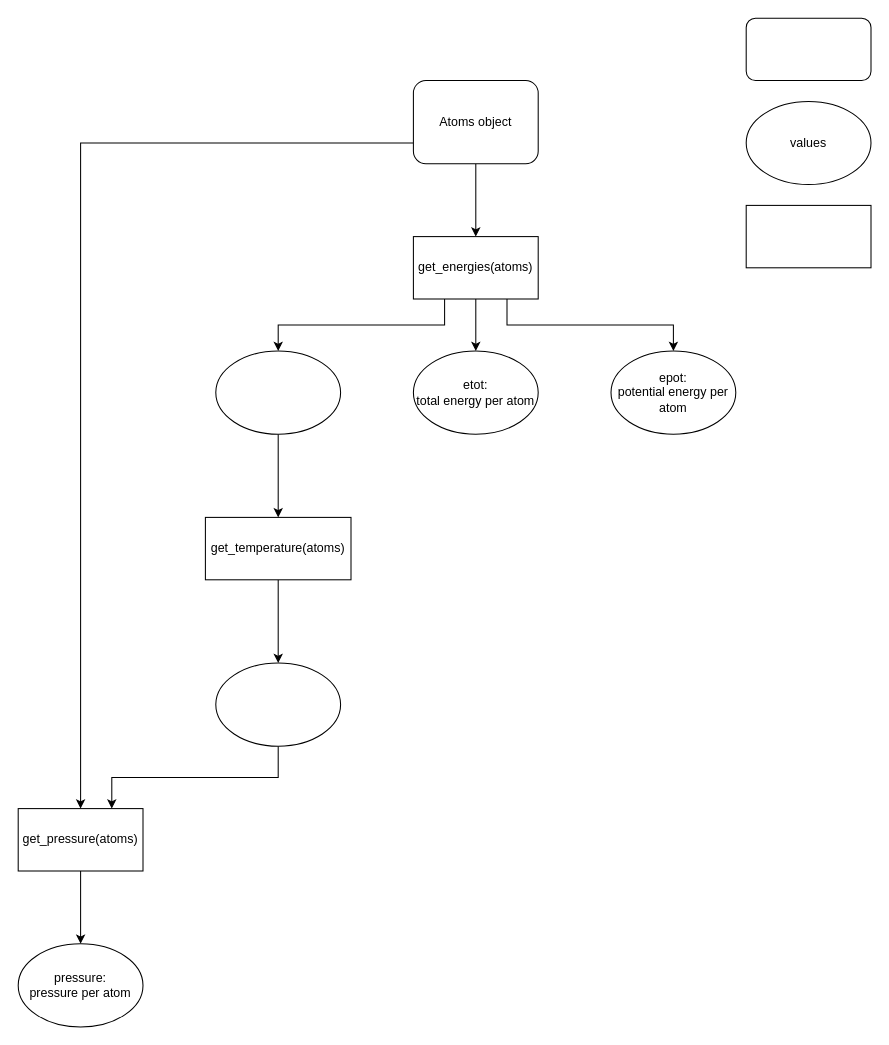
Image size: 889x1045. Some labels were removed from this diagram. Here are the shapes that lost their labels. From the top down, the box of each, then its label:
(745, 17, 871, 81): objects
(745, 204, 871, 268): functions
(215, 350, 341, 434): ekin: kinetic energy per atom
(215, 662, 341, 746): temp: temperature per atom
